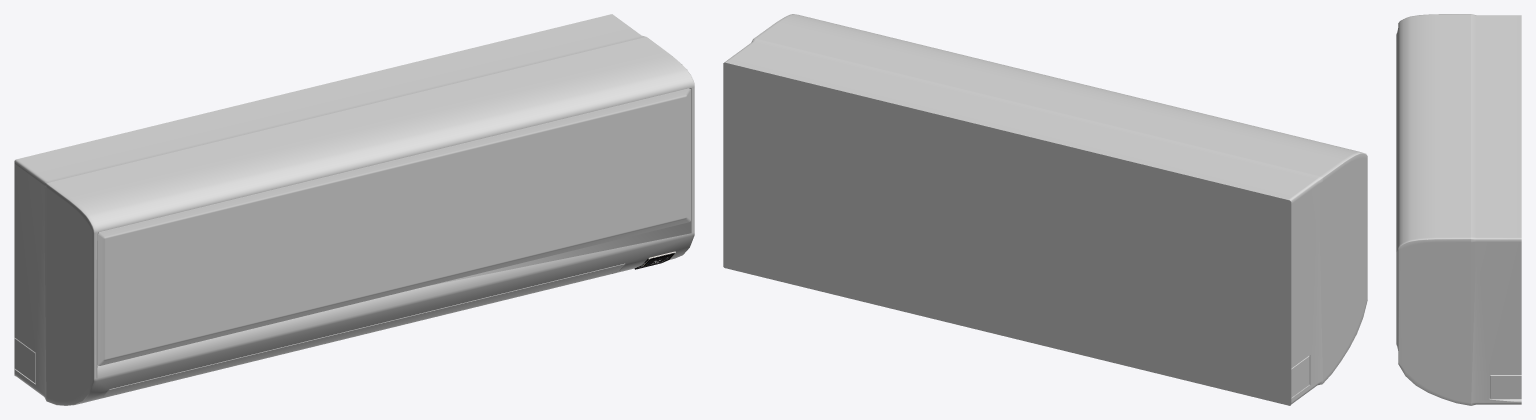
File: air_conditioner.glb
The picture shows the model from 3 angles, left to right: view 1: azimuth 30°, elevation 25°; view 2: azimuth 150°, elevation 25°; view 3: azimuth 270°, elevation 25°; orthographic projection. The views are drawn at different scales.
Visible parts, largest first — view 1: Conditioner; view 2: Shape001, Conditioner; view 3: Conditioner.
Part boxes in pixels (left/top/right/bottom): Conditioner: left=14, top=14, right=694, bottom=405; Shape001: left=723, top=62, right=1291, bottom=405; Conditioner: left=724, top=14, right=1367, bottom=403; Conditioner: left=1396, top=14, right=1521, bottom=405.
Bounding box in the file's own units: 0.82 × 0.285 × 0.1928.
2 materials, 1 textured.
